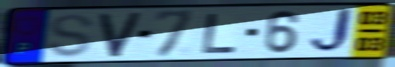6: (265, 9, 303, 55)
7: (154, 9, 198, 60)
J: (306, 6, 355, 56)
L: (200, 12, 240, 55)
S: (45, 12, 95, 59)
V: (97, 10, 145, 59)
